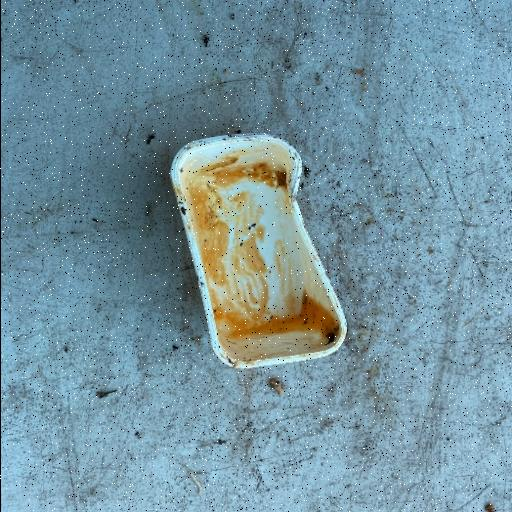Plastic: (167, 130, 349, 370)
